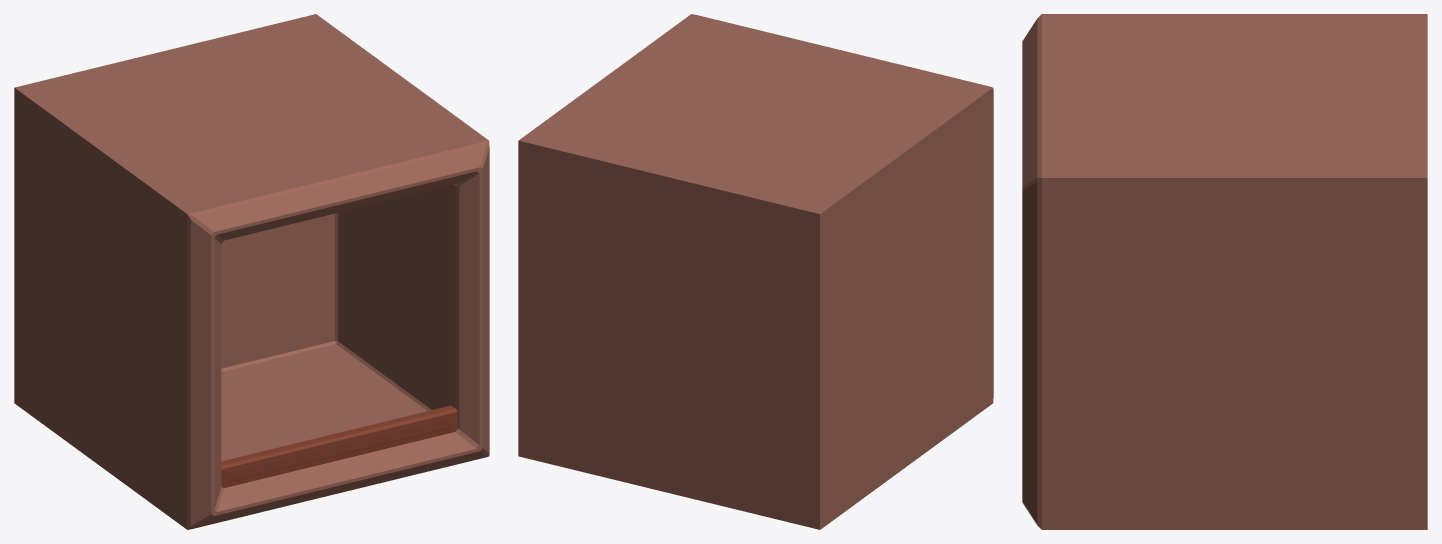
The model's file is drink cage.fbx.
3 renders of one model, left to right at view 1: azimuth 30°, elevation 25°; view 2: azimuth 150°, elevation 25°; view 3: azimuth 270°, elevation 25°, orthographic. The views are drawn at different scales.
Visible parts, largest first — view 1: Cube.006; view 2: Cube.006; view 3: Cube.006.
Part boxes in pixels (x1=…): Cube.006: x1=14, y1=14, x2=489, y2=529; Cube.006: x1=518, y1=14, x2=993, y2=529; Cube.006: x1=1022, y1=14, x2=1427, y2=529.
Bounding box in the file's own units: 200 × 200 × 209.
